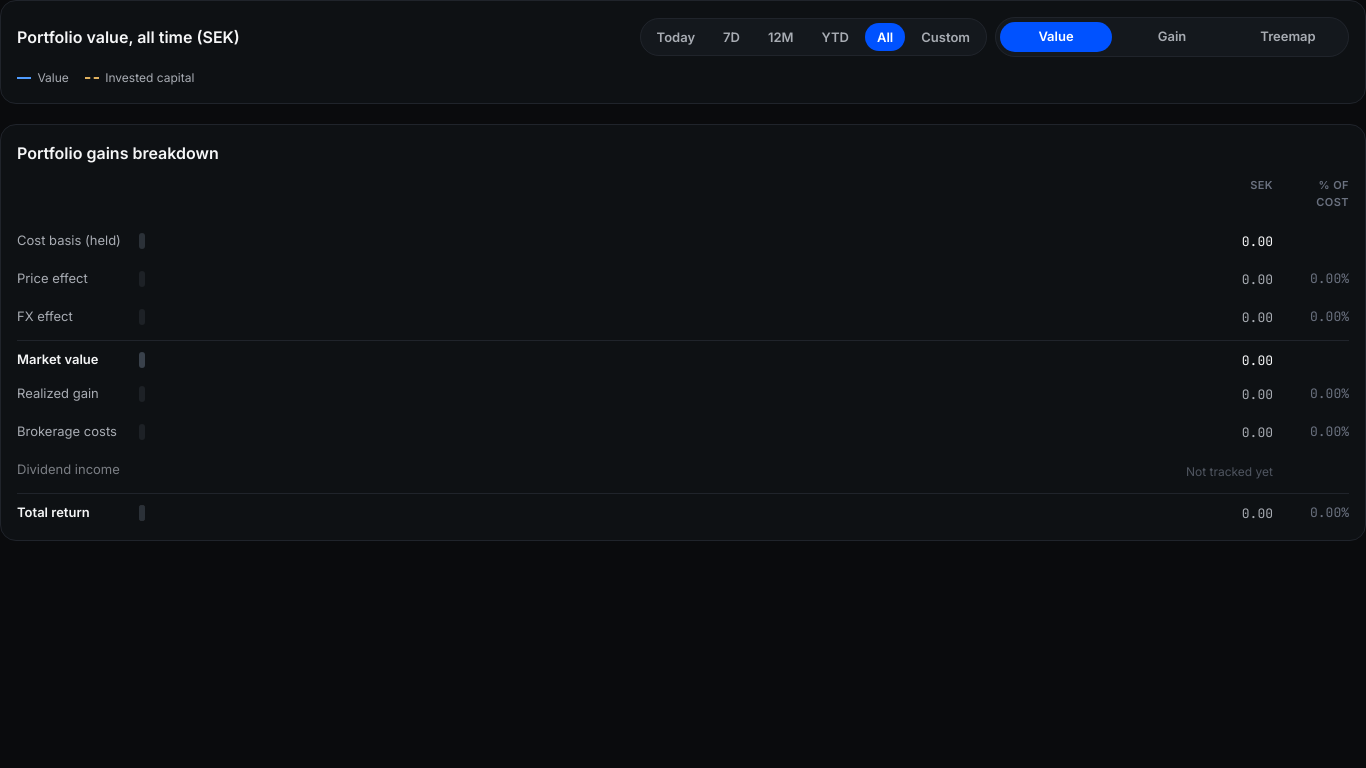
Test: Dashboard gain view › offers the unit toggle only on the gain view and switches the series
The width and height of the screenshot is (1366, 768).
Click the button "Gain": (1172, 37) [1116,22,1228,52]
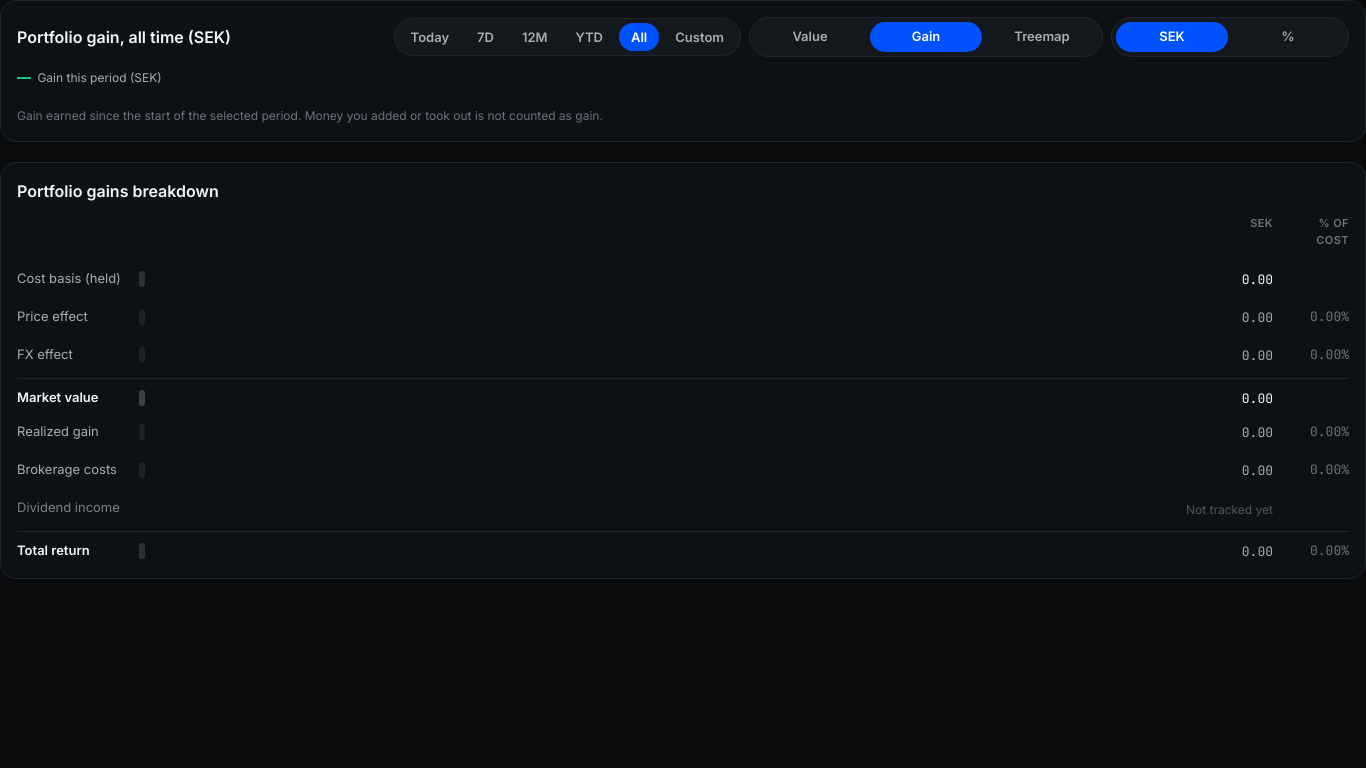
expect the heading "Portfolio gain, all time (SEK)" is shown: met, box [17,25,231,49]
Click the button named "Percent": (1288, 37) [1232,22,1344,52]
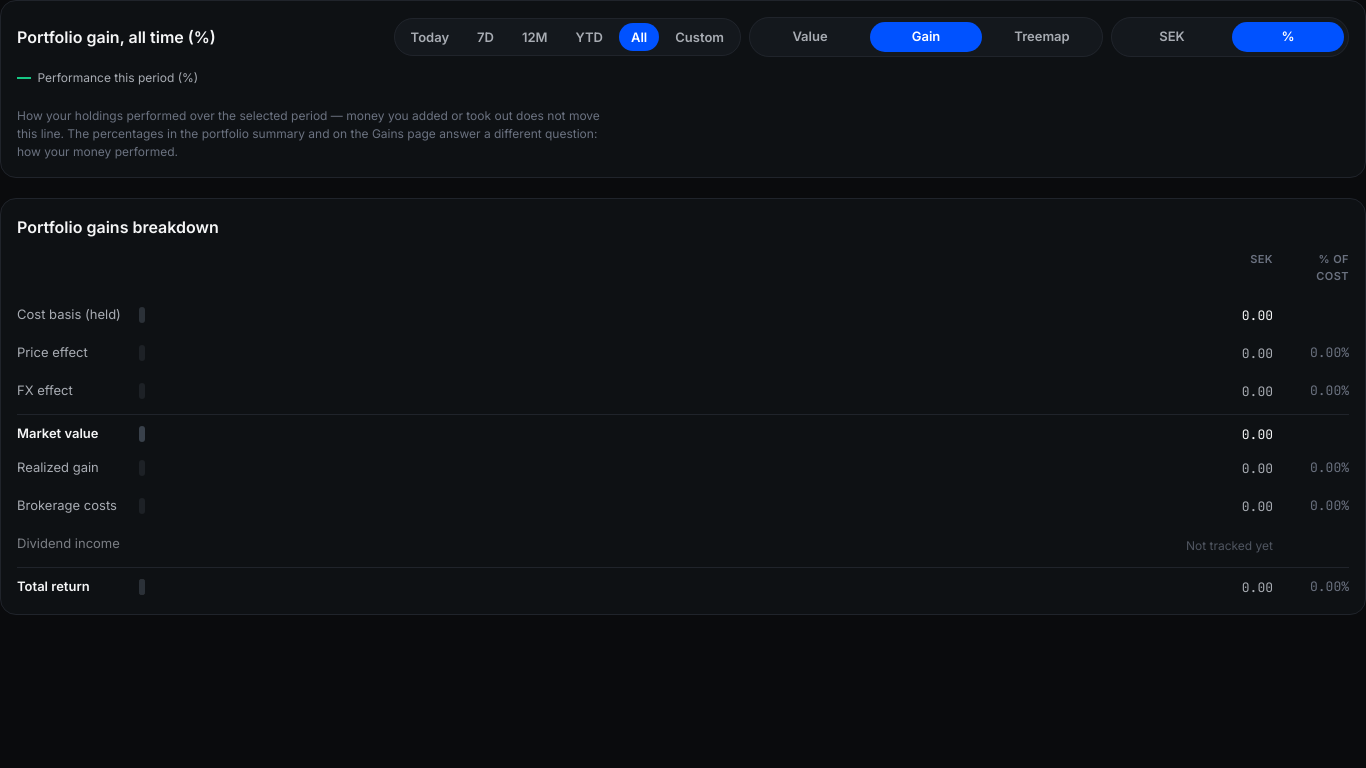
expect the heading "Portfolio gain, all time (%)" is shown: met, box [17,25,216,49]
